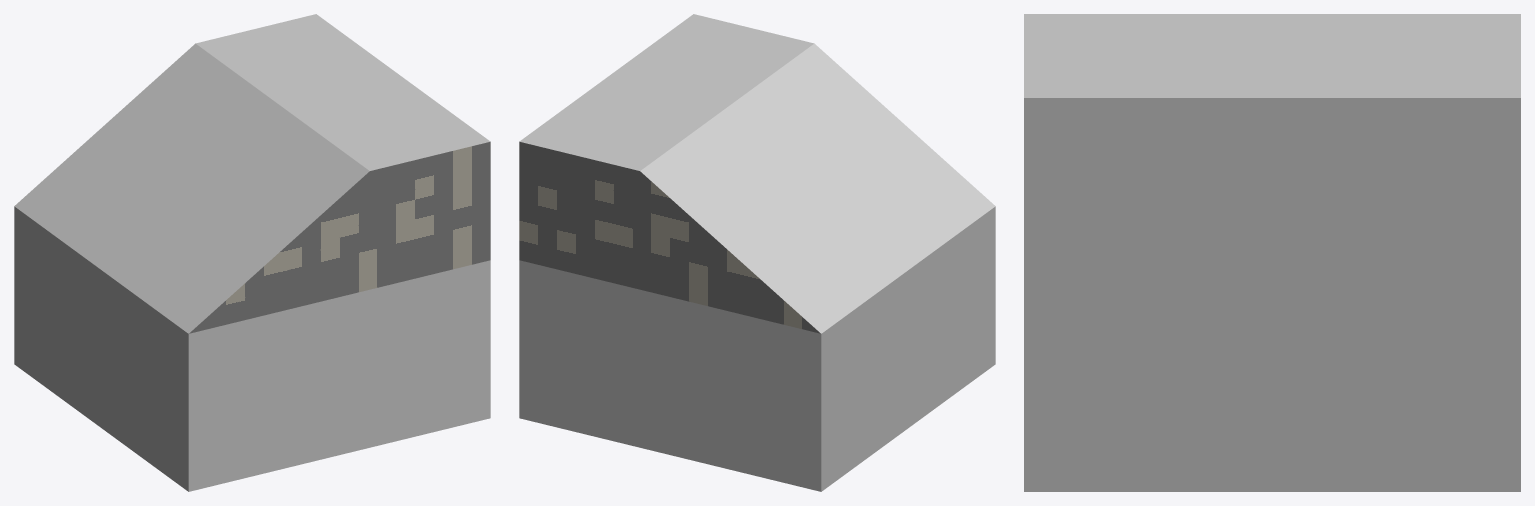
File: slope62_5_shave4_base8.obj
The picture shows the model from 3 angles, left to right: view 1: azimuth 30°, elevation 25°; view 2: azimuth 150°, elevation 25°; view 3: azimuth 270°, elevation 25°; orthographic projection. The views are drawn at different scales.
Size of the model in its own units: 1 by 0.875 by 1.
